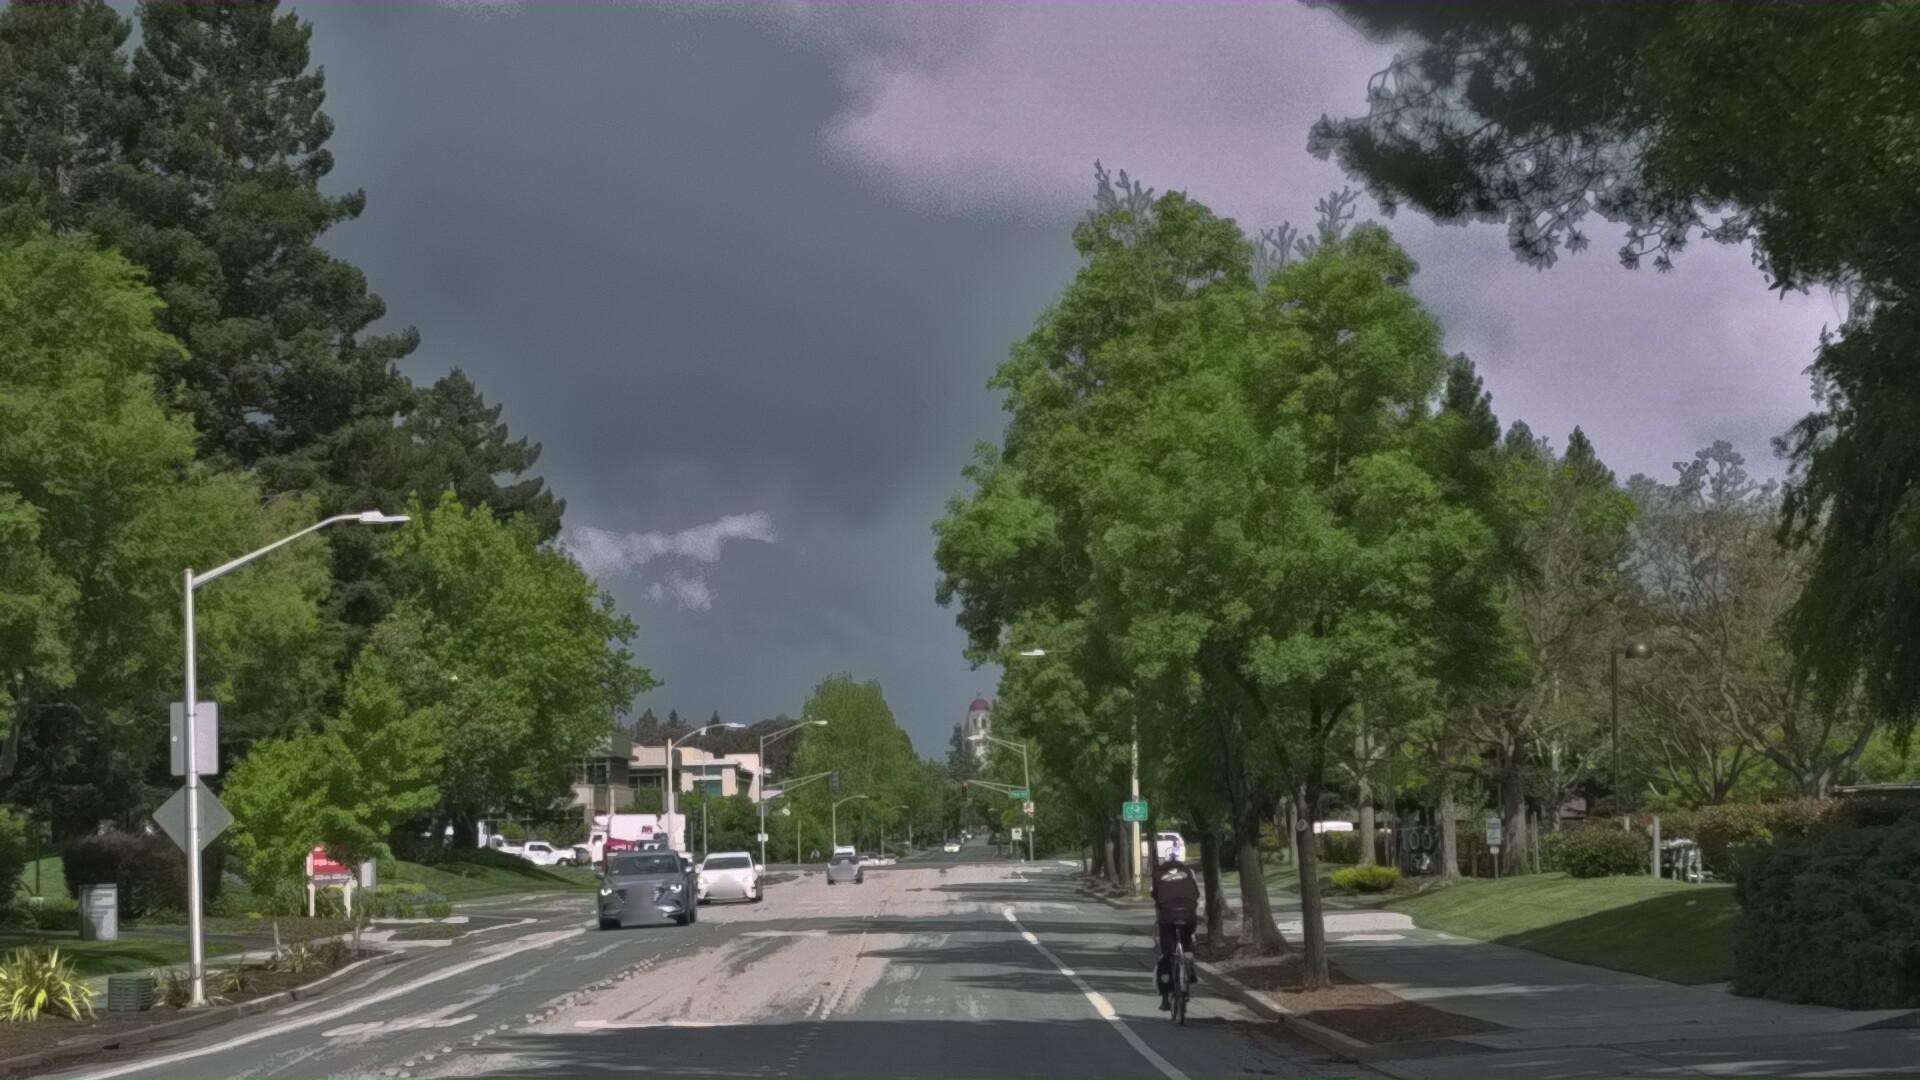bicycle: (1117, 926, 1230, 1080)
car: (584, 928, 690, 1021)
